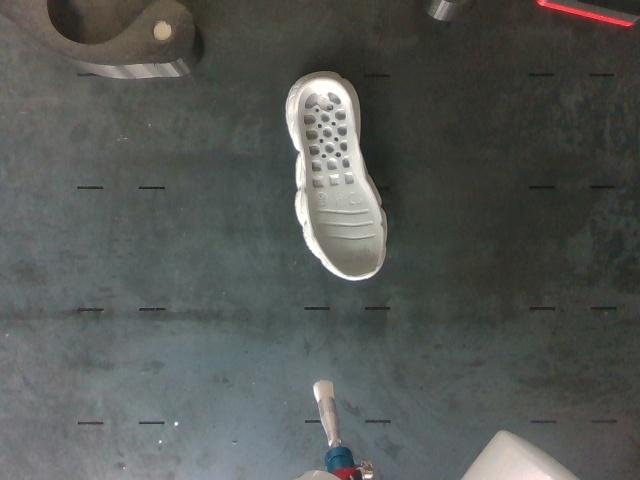shoes: (298, 80, 382, 277)
